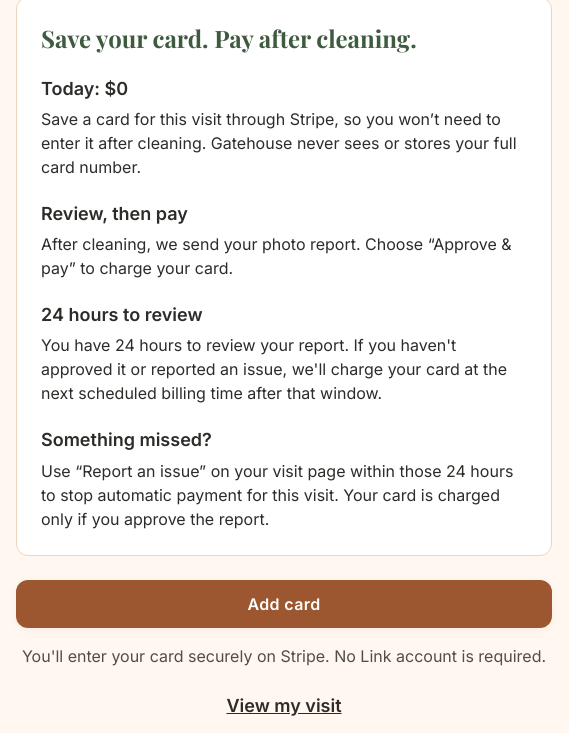
Test: visit cancelled during card setup › shows the cancellation when Add card is clicked at /save-card
This screenshot has width=569, height=733.
(page scrolled)
Click the button "Add card".
click(284, 604)  # box [16,580,552,628]
(page scrolled)
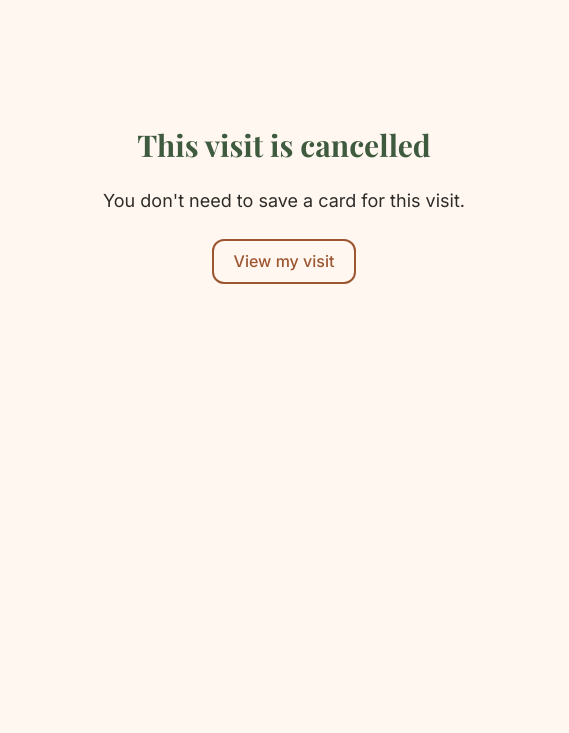
Now the heading "This visit is cancelled" is shown, box [137,125,431,165]
Now the button "Add card" is gone
